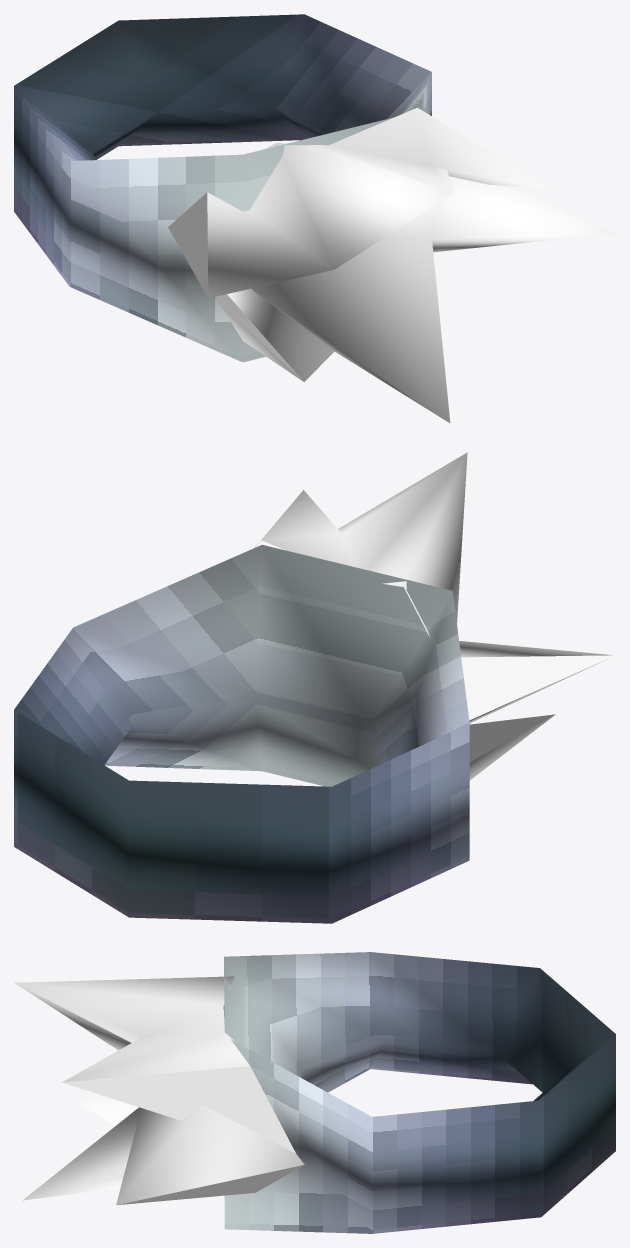
Rendered from waterring.glb.
3 renders of one model, top to bottom at view 1: azimuth 30°, elevation 25°; view 2: azimuth 150°, elevation 25°; view 3: azimuth 270°, elevation 25°, orthographic. The views are drawn at different scales.
Parts seen in each view (by area): view 1: model_waterring; view 2: model_waterring; view 3: model_waterring.
Boxes of the visible parts, bbox=[...] form: model_waterring: bbox=[14, 14, 615, 422]; model_waterring: bbox=[14, 452, 615, 923]; model_waterring: bbox=[14, 952, 615, 1233].
Bounding box in the file's own units: 0.2463 × 0.1346 × 0.3369.
Materials: 2 (1 with a texture image).
